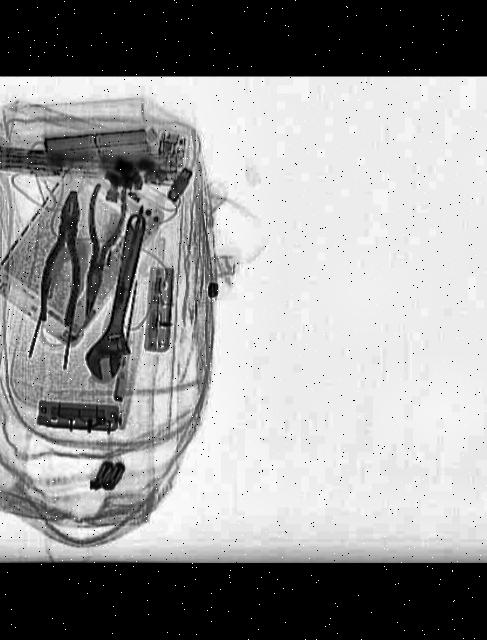Pliers: (69, 181, 132, 322), (38, 189, 96, 328)
Wrench: (83, 212, 164, 384)
